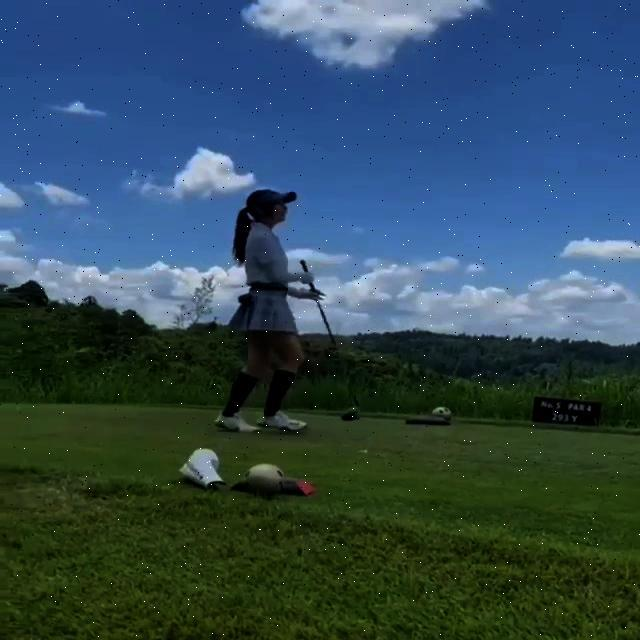golf club-handle: (300, 260, 365, 424)
golf club-head: (340, 406, 363, 421)
